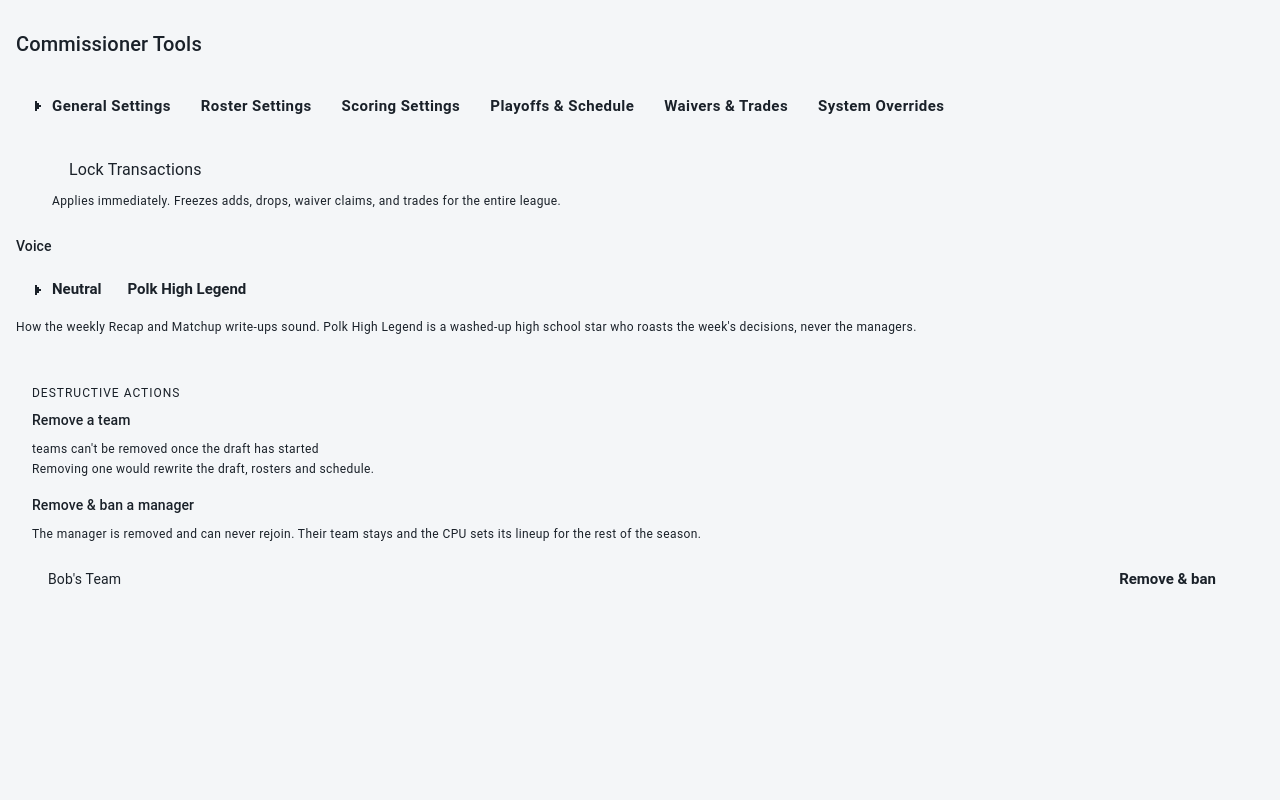
Scenario: Roster Settings is frozen once the draft has started
The image size is (1280, 800).
Click the tab "Roster Settings" at (256, 106), box [185,84,328,128]
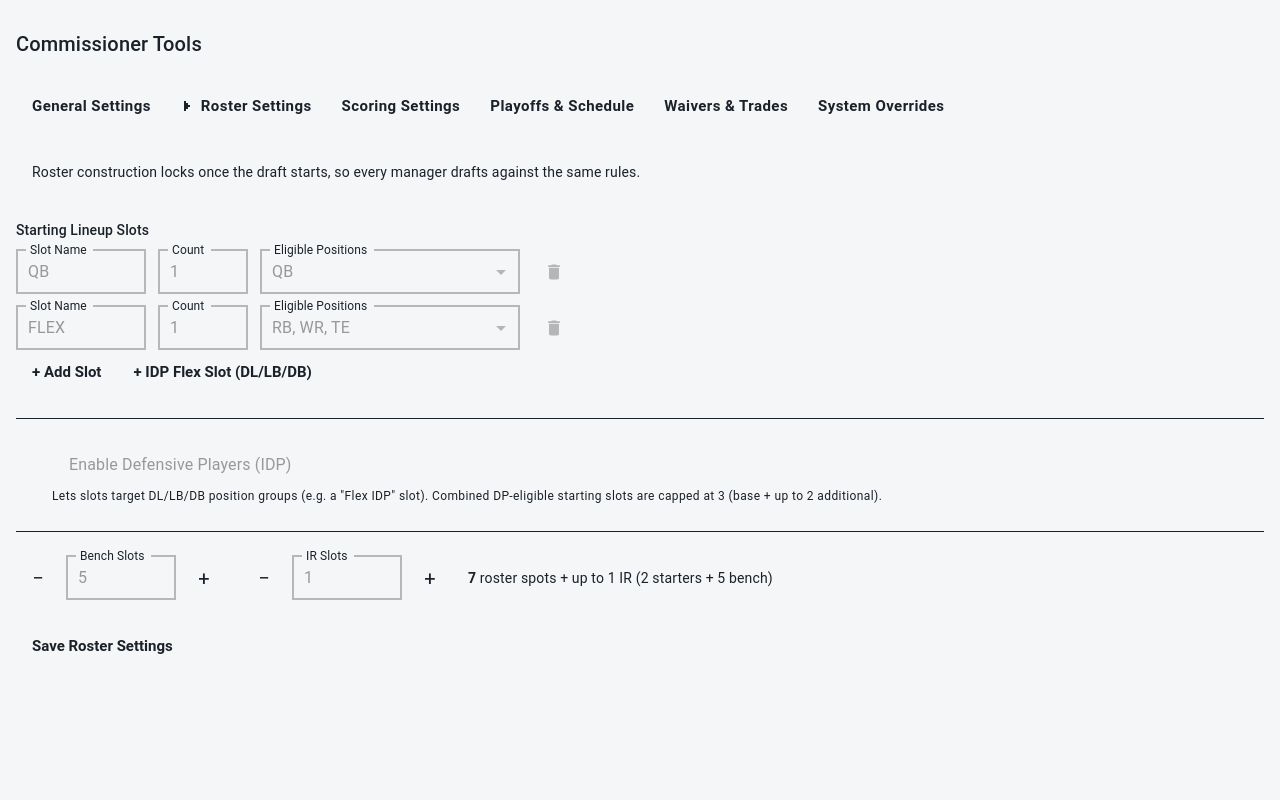
Result: the text "locks once the draft starts" is shown at [32,164,640,180]
Result: the button "Save Roster Settings" is disabled at [16,624,189,668]
Result: the field labelled "Slot Name" in the row of "QB" is disabled at [16,250,146,294]
